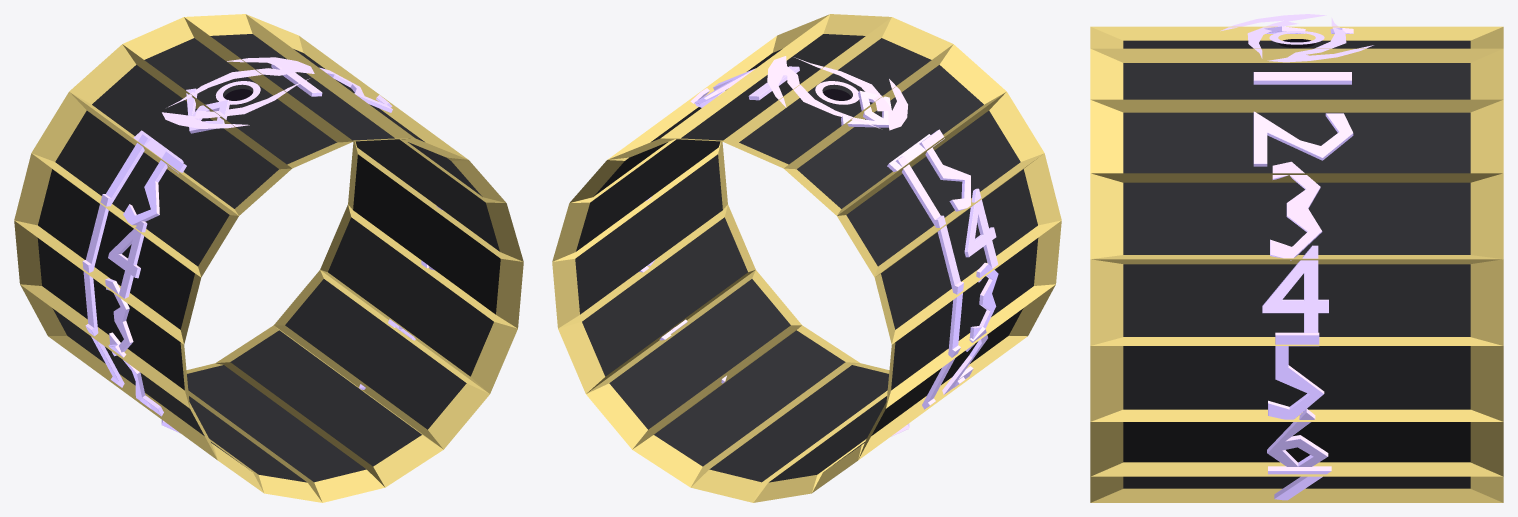
File: d17_black_hole_gold.glb
The picture shows the model from 3 angles, left to right: view 1: azimuth 30°, elevation 25°; view 2: azimuth 150°, elevation 25°; view 3: azimuth 270°, elevation 25°; orthographic projection. The views are drawn at different scales.
Visible parts, largest first — view 1: D17_Die; view 2: D17_Die; view 3: D17_Die.
Part boxes in pixels (x1,y1,x2,y2): D17_Die: (14,14,523,502); D17_Die: (552,14,1061,502); D17_Die: (1090,14,1503,502).
Bounding box in the file's own units: 4.38 × 4.45 × 3.8.
